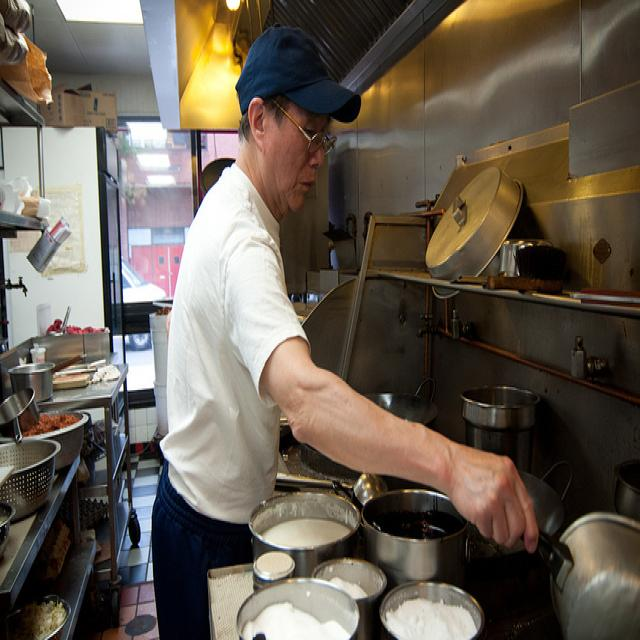Vehicle: (122, 256, 166, 351)
